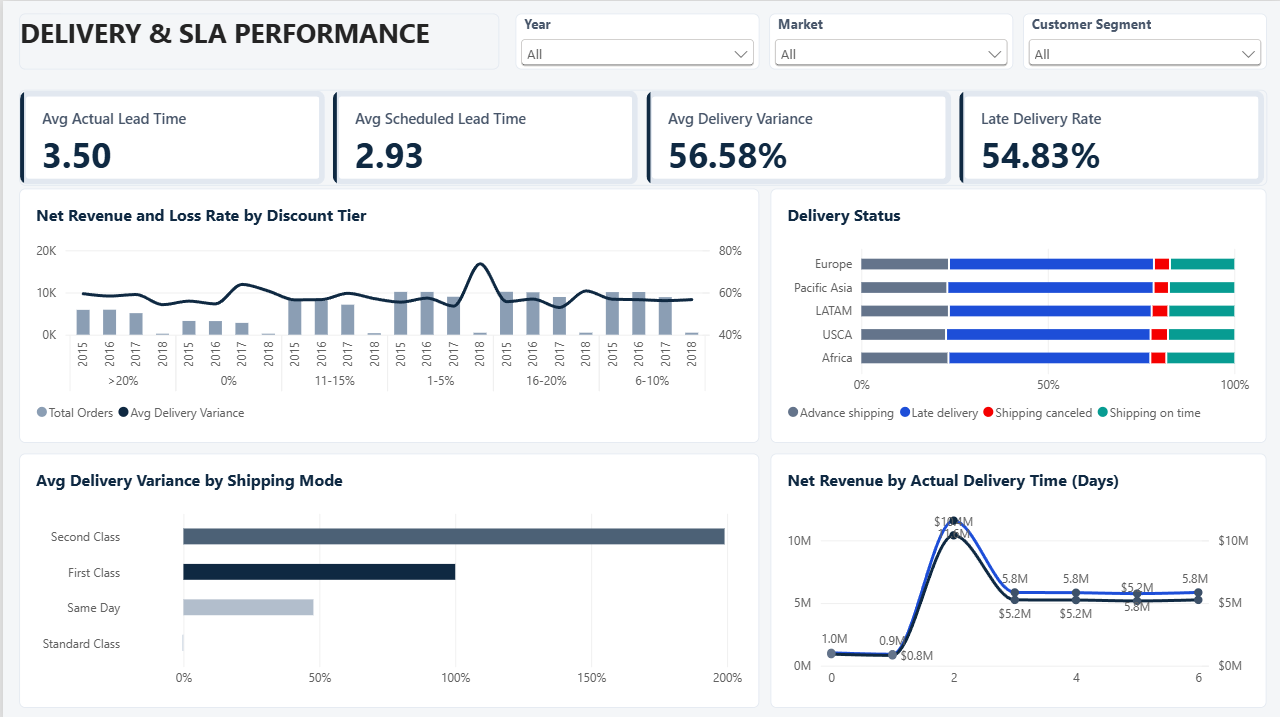

The page's visual inventory and layout, read from the dashboard file:
{"tool":"powerbi","page":{"name":"Delivery","canvas":[1280,720],"ordinal":2},"visuals":[{"type":"textbox","box":[16,12,480,56],"z":0},{"type":"slicer","fields":{"Values":["Cleaned_SupplyChain_Data.order date (DateOrders).Variation.Date Hierarchy.Year"]},"box":[512,12,244,56],"z":1000},{"type":"slicer","fields":{"Values":["Cleaned_SupplyChain_Data.Market"]},"box":[766,12,244,56],"z":2000},{"type":"slicer","fields":{"Values":["Cleaned_SupplyChain_Data.Customer Segment"]},"box":[1020,12,244,56],"z":3000},{"type":"cardVisual","fields":{"Data":["Cleaned_SupplyChain_Data.Avg Actual Lead Time","Cleaned_SupplyChain_Data.Avg Scheduled Lead Time","Cleaned_SupplyChain_Data.Avg Delivery Variance","Cleaned_SupplyChain_Data.Late Delivery Rate"]},"box":[16,89,1248,96],"z":4000},{"type":"lineClusteredColumnComboChart","title":"Net Revenue and Loss Rate by Discount Tier","fields":{"Category":["Cleaned_SupplyChain_Data.discount_tier","Cleaned_SupplyChain_Data.order_date.Variation.Date Hierarchy.Year"],"Y":["Cleaned_SupplyChain_Data.Total Orders"],"Y2":["Cleaned_SupplyChain_Data.Avg Delivery Variance"]},"box":[16,188,740,254],"z":5000},{"type":"hundredPercentStackedBarChart","title":"Delivery Status","fields":{"Category":["Cleaned_SupplyChain_Data.Market"],"Series":["Cleaned_SupplyChain_Data.Delivery Status"],"Y":["Cleaned_SupplyChain_Data.Total Orders"]},"box":[768,188,496,254],"z":6000},{"type":"clusteredBarChart","title":"Avg Delivery Variance by Shipping Mode","fields":{"Category":["Cleaned_SupplyChain_Data.Shipping Mode"],"Y":["Cleaned_SupplyChain_Data.Avg Delivery Variance"]},"box":[16,452,740,254],"z":7000},{"type":"lineChart","title":"Net Revenue by Actual Delivery Time (Days)","fields":{"Category":["Cleaned_SupplyChain_Data.actual_days"],"Y":["Cleaned_SupplyChain_Data.Gross Sales"],"Y2":["Cleaned_SupplyChain_Data.Net Revenue"]},"box":[768,452,496,254],"z":8000}]}

Visuals, with their boxes in screenshot pixels (x1, y1, x2, y2), scaled from the page's 1280x720 canvas onto the 1280x717 screenshot:
textbox: bbox(16, 12, 496, 68)
slicer - Cleaned_SupplyChain_Data.order date (DateOrders).Variation.Date Hierarchy.Year: bbox(512, 12, 756, 68)
slicer - Cleaned_SupplyChain_Data.Market: bbox(766, 12, 1010, 68)
slicer - Cleaned_SupplyChain_Data.Customer Segment: bbox(1020, 12, 1264, 68)
cardVisual - Cleaned_SupplyChain_Data.Avg Actual Lead Time x Cleaned_SupplyChain_Data.Avg Scheduled Lead Time: bbox(16, 89, 1264, 184)
"Net Revenue and Loss Rate by Discount Tier" lineClusteredColumnComboChart: bbox(16, 187, 756, 440)
"Delivery Status" hundredPercentStackedBarChart: bbox(768, 187, 1264, 440)
"Avg Delivery Variance by Shipping Mode" clusteredBarChart: bbox(16, 450, 756, 703)
"Net Revenue by Actual Delivery Time (Days)" lineChart: bbox(768, 450, 1264, 703)
